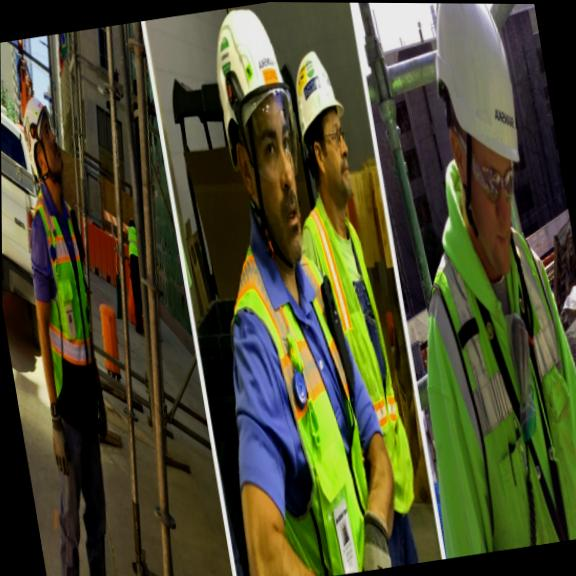safety_vest: (380, 138, 576, 559), (214, 215, 385, 576), (291, 180, 421, 524), (22, 190, 104, 402), (123, 222, 139, 258)
